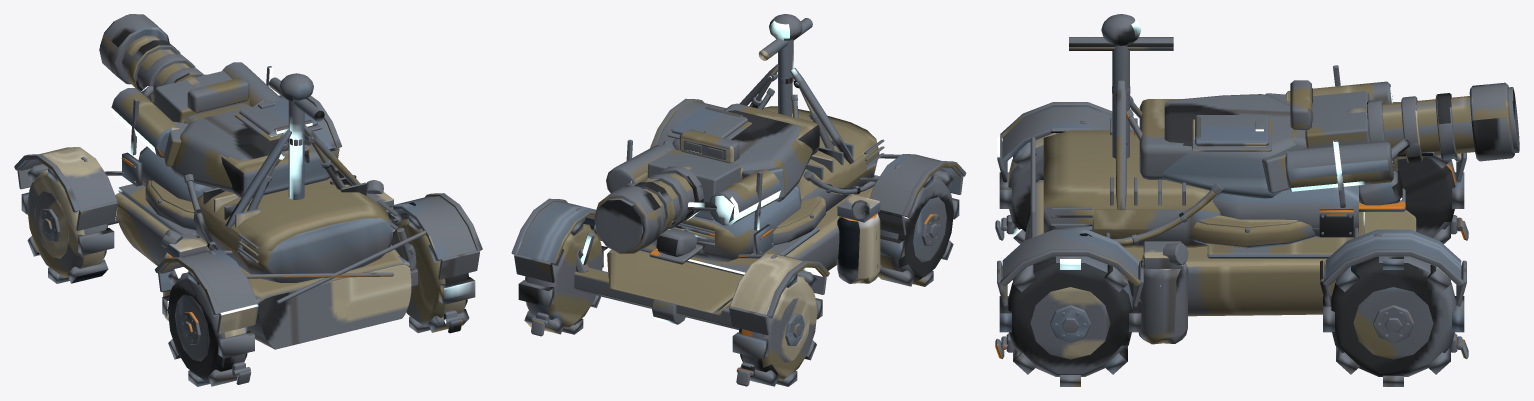
Rendered from SentinelRelay_Atlas.fbx.
The picture shows the model from 3 angles, left to right: view 1: azimuth 30°, elevation 25°; view 2: azimuth 150°, elevation 25°; view 3: azimuth 270°, elevation 25°; orthographic projection. The views are drawn at different scales.
Visible parts, largest first — view 1: SentinelRelay_UnifiedMesh; view 2: SentinelRelay_UnifiedMesh; view 3: SentinelRelay_UnifiedMesh.
Part boxes in pixels (bbox=[...]): SentinelRelay_UnifiedMesh: bbox=[14, 14, 482, 386]; SentinelRelay_UnifiedMesh: bbox=[511, 14, 966, 386]; SentinelRelay_UnifiedMesh: bbox=[995, 14, 1519, 386].
Size of the model in its own units: 231 by 215 by 341.
Materials: 1 (1 with a texture image).
